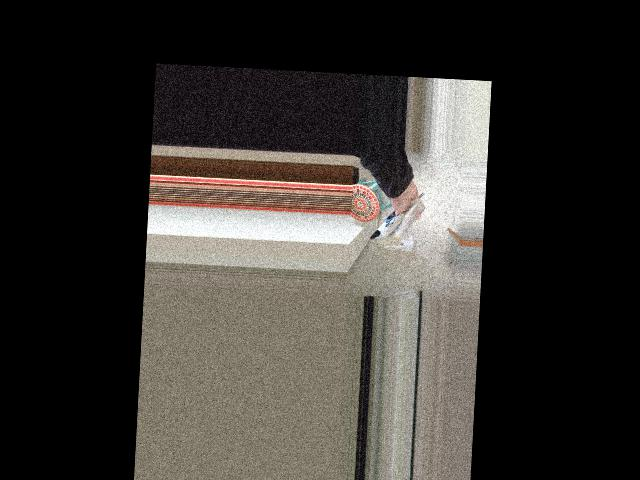cheese: (361, 179, 432, 257)
